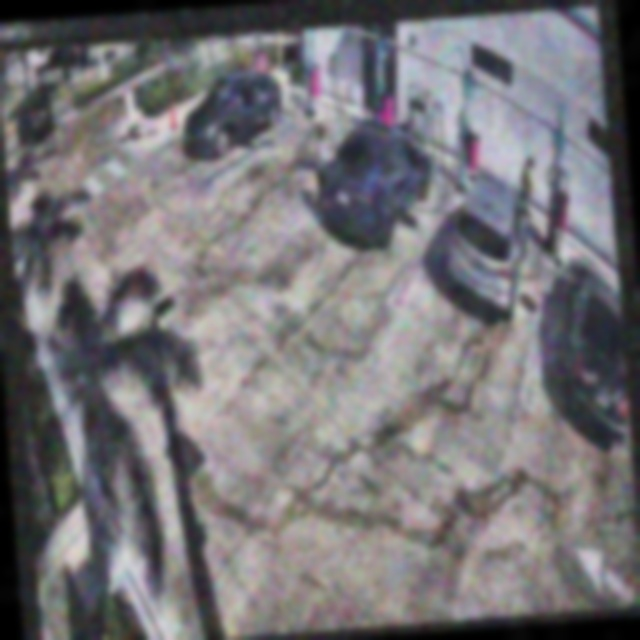Car: (313, 113, 437, 253), (442, 170, 538, 324), (178, 69, 282, 162)
